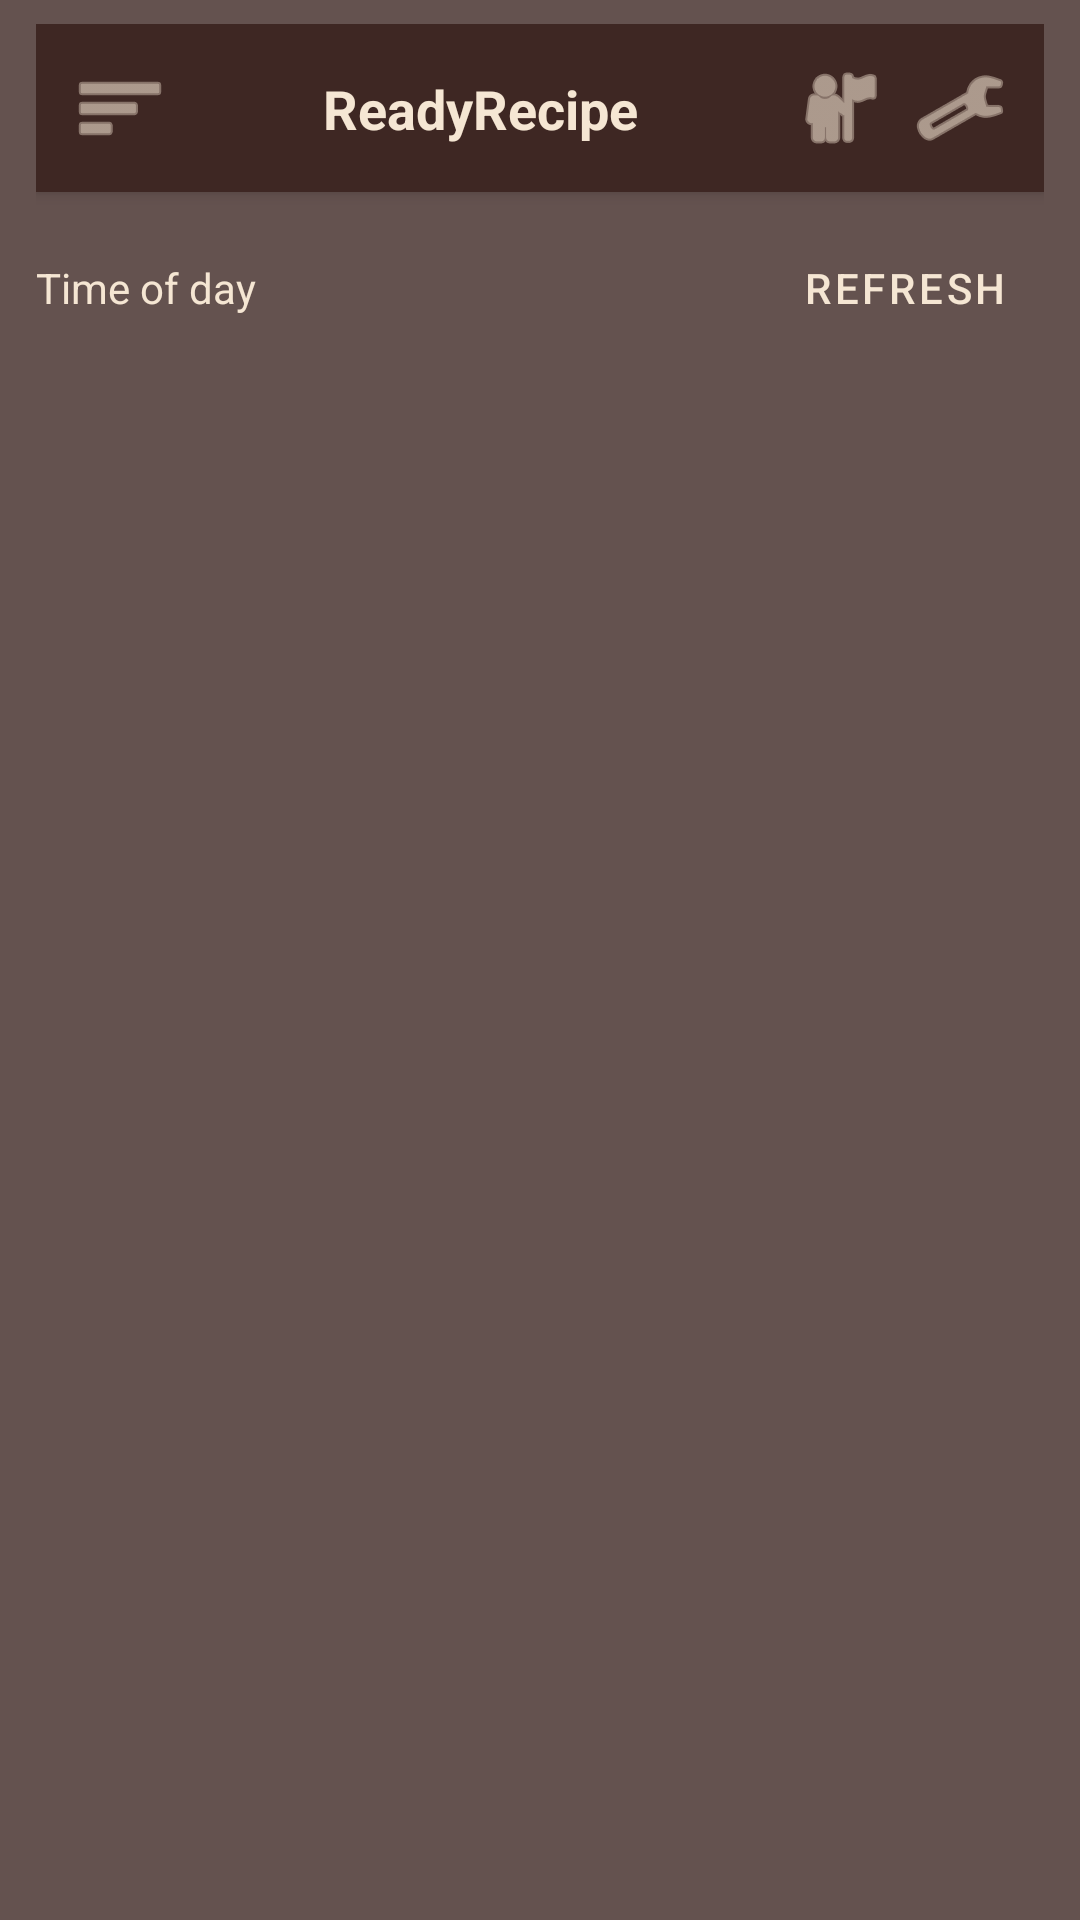

Icon click points for this 1080w x 1920h phone screenshot, format point (x, y):
Menu: point (120, 108)
Profile: point (841, 108)
Settings: point (960, 108)
